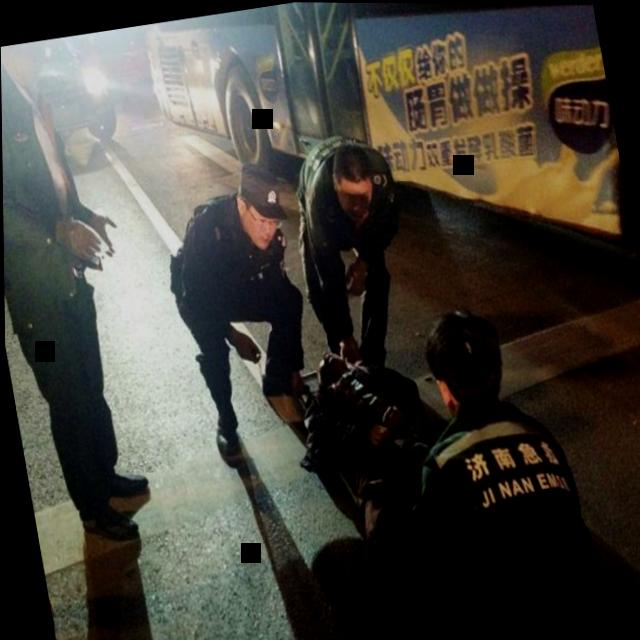Fall-Detected: (280, 318, 463, 559)
